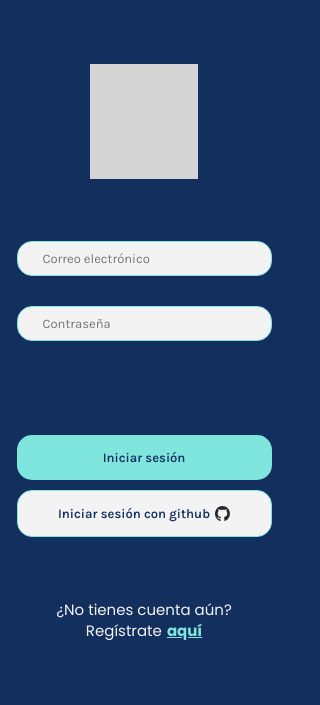
LoginPage Integration Test › should display validation errors if form fields are invalid
Click the button "Iniciar sesión" at {"x": 144, "y": 458}, box x1=16 y1=435 x2=272 y2=480
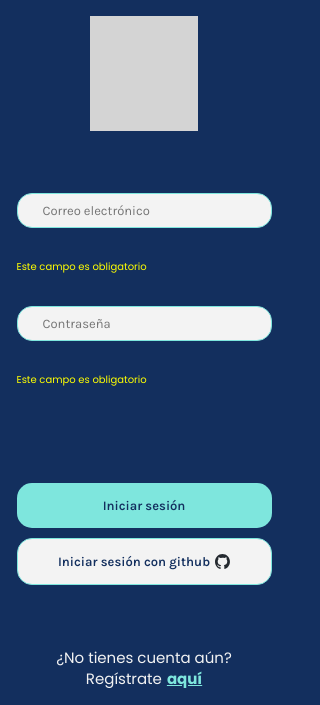
Expected: the text "Este campo es obligatorio" is shown 2 times, x1=16 y1=259 x2=147 y2=274; x1=16 y1=372 x2=147 y2=387
